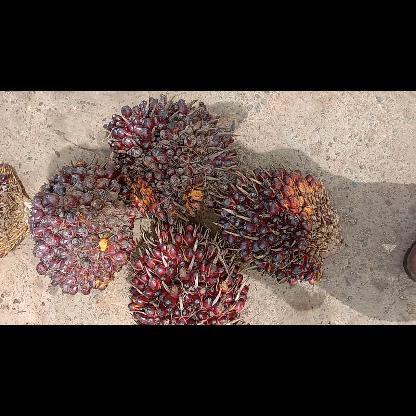Kurang masak: (101, 92, 242, 224), (124, 218, 252, 324)
TBS mentah: (215, 164, 341, 289), (25, 155, 135, 295)
